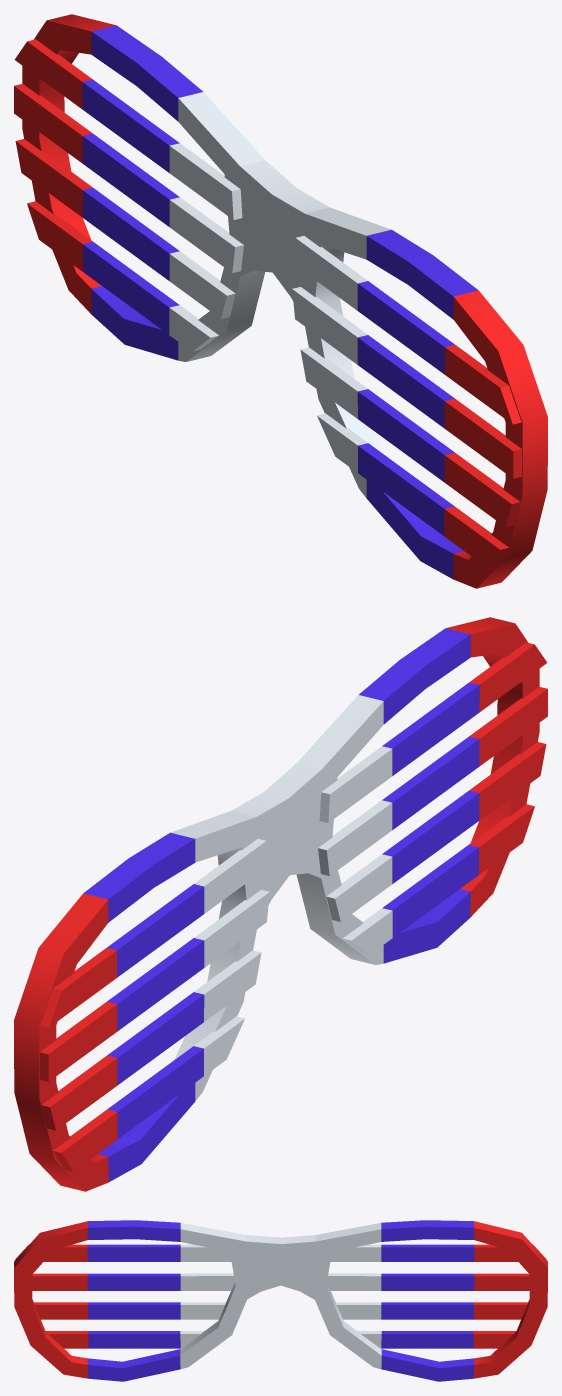
The model's file is Kinh 3 mau.FBX.
3 renders of one model, top to bottom at view 1: azimuth 30°, elevation 25°; view 2: azimuth 150°, elevation 25°; view 3: azimuth 270°, elevation 25°, orthographic. The views are drawn at different scales.
Visible parts, largest first — view 1: Object395; view 2: Object395; view 3: Object395.
Boxes of the visible parts, left/top/right/bottom form: Object395: left=14, top=14, right=547, bottom=588; Object395: left=14, top=617, right=547, bottom=1191; Object395: left=14, top=1220, right=547, bottom=1381.
Size of the model in its own units: 0.0545 by 0.4452 by 1.39.
